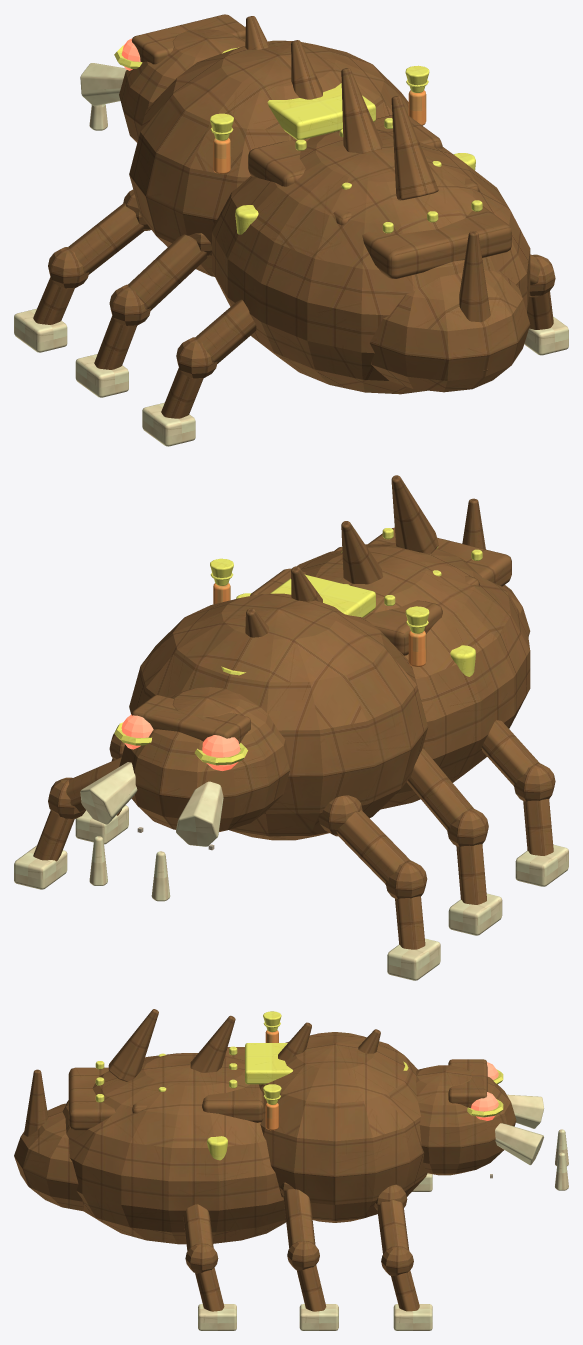
File: ff-biter.glb
3 views of the same model, one above another, from view 1: azimuth 30°, elevation 25°; view 2: azimuth 150°, elevation 25°; view 3: azimuth 270°, elevation 25° (orthographic). The views are drawn at different scales.
Parts seen in each view (by area): view 1: Abdomen, Thorax, Abdomen2, Carapace.002, Skull, BrassPlate, Spike, Femur.002, Carapace, Femur.004, Spike.001, Femur (+19 smaller); view 2: Thorax, Abdomen, Skull, Brow, Femur.004, Femur.002, Mandible, Spike, Mandible.001, Carapace, Femur, BrassPlate (+24 smaller); view 3: Abdomen, Thorax, Skull, Abdomen2, Carapace.002, Carapace, Spike, BrassPlate, Femur.003, Brow, Mandible.001, Femur.005 (+18 smaller).
Part boxes in pixels (x1,y1,x2,y2): Abdomen: (212,129,530,394); Thorax: (129,40,408,276); Abdomen2: (370,270,530,392); Carapace.002: (362,206,511,278); Skull: (119,29,245,142); BrassPlate: (267,83,375,139); Spike: (391,96,438,200); Femur.002: (128,234,207,310); Carapace: (248,115,442,186); Femur.004: (68,203,144,274); Spike.001: (341,68,382,153); Femur: (195,299,256,363); Thorax: (129,593,427,840); Abdomen: (297,543,530,809); Skull: (119,687,290,831); Brow: (132,695,250,743); Femur.004: (336,810,409,884); Femur.002: (406,748,473,830); Mandible: (176,781,223,846); Spike: (391,475,438,553); Mandible.001: (80,762,137,824); Carapace: (250,568,442,655); Femur: (481,720,539,785); BrassPlate: (270,574,375,617); Abdomen: (62,1053,286,1244); Thorax: (259,1032,427,1222); Skull: (416,1065,516,1175); Abdomen2: (14,1103,83,1210); Carapace.002: (68,1067,115,1130); Carapace: (202,1047,264,1122); Spike: (108,1009,158,1081); BrassPlate: (245,1043,292,1084); Femur.003: (283,1189,315,1248); Brow: (448,1059,487,1108); Mandible.001: (495,1123,543,1165); Femur.005: (377,1200,409,1253).
Bounding box in the file's own units: 0.91 × 0.6972 × 1.42.
11 materials, 9 textured.
